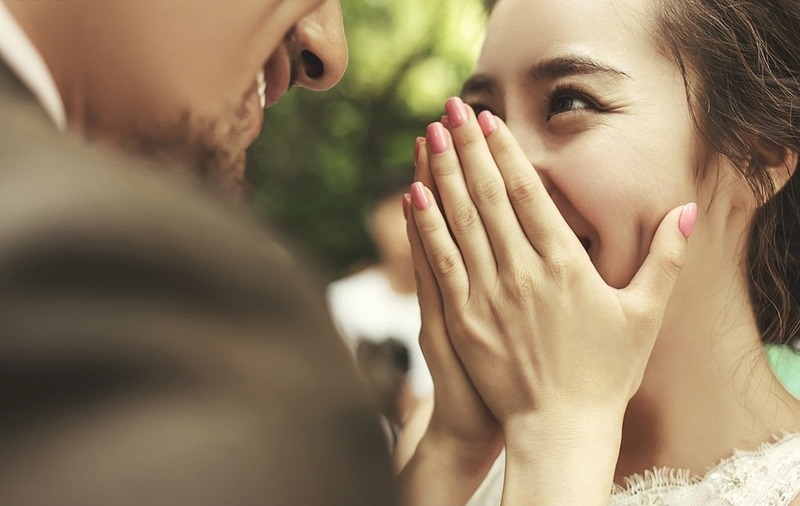face: (447, 1, 712, 379), (156, 1, 350, 220)
